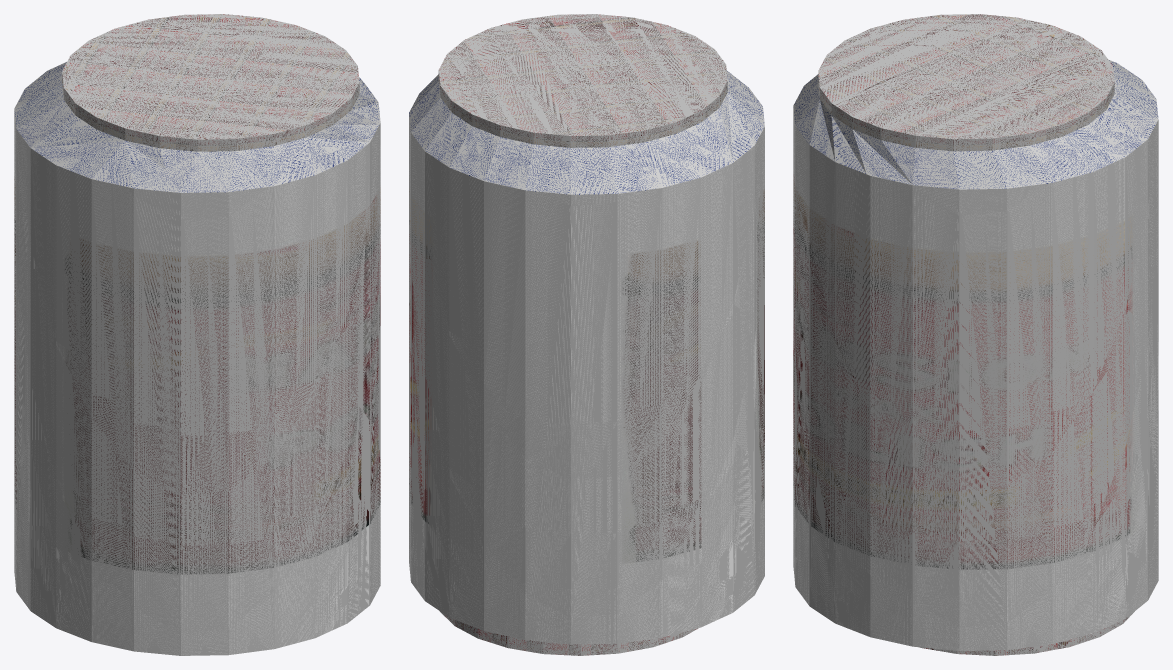
The picture shows the model from 3 angles, left to right: view 1: azimuth 30°, elevation 25°; view 2: azimuth 150°, elevation 25°; view 3: azimuth 270°, elevation 25°; orthographic projection. The views are drawn at different scales.
Parts seen in each view (by area): view 1: mesh1_mesh1-geometry; view 2: mesh1_mesh1-geometry; view 3: mesh1_mesh1-geometry.
Part boxes in pixels (box(x1,y1,x2,y2)): mesh1_mesh1-geometry: box(14, 14, 380, 655); mesh1_mesh1-geometry: box(409, 14, 764, 655); mesh1_mesh1-geometry: box(793, 14, 1158, 655).
Bounding box in the file's own units: 0.4725 × 0.744 × 0.4725.
